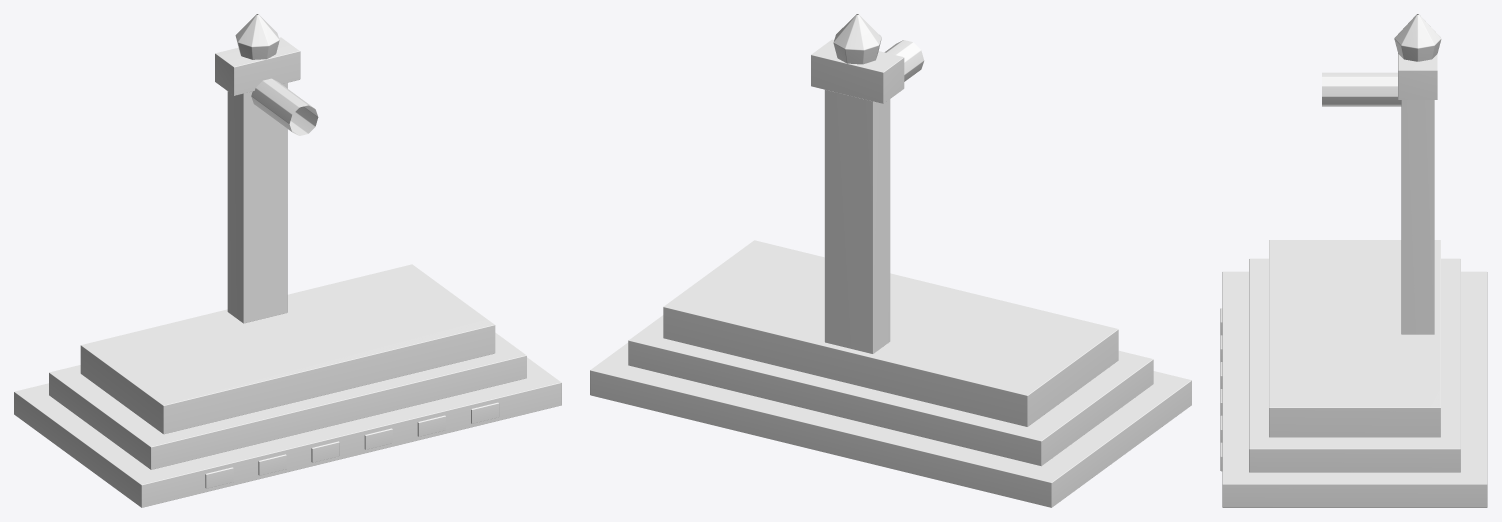
File: chakra_stand.glb
3 views of the same model, side by side, from view 1: azimuth 30°, elevation 25°; view 2: azimuth 150°, elevation 25°; view 3: azimuth 270°, elevation 25° (orthographic). The views are drawn at different scales.
Visible parts, largest first — view 1: ChakraStand; view 2: ChakraStand; view 3: ChakraStand.
Part boxes in pixels (x1,y1,x2,y2): ChakraStand: (14, 14, 561, 507); ChakraStand: (590, 14, 1191, 507); ChakraStand: (1220, 14, 1487, 507).
Bounding box in the file's own units: 7.6 × 6.45 × 4.03.
Materials: 1 (1 with a texture image).
